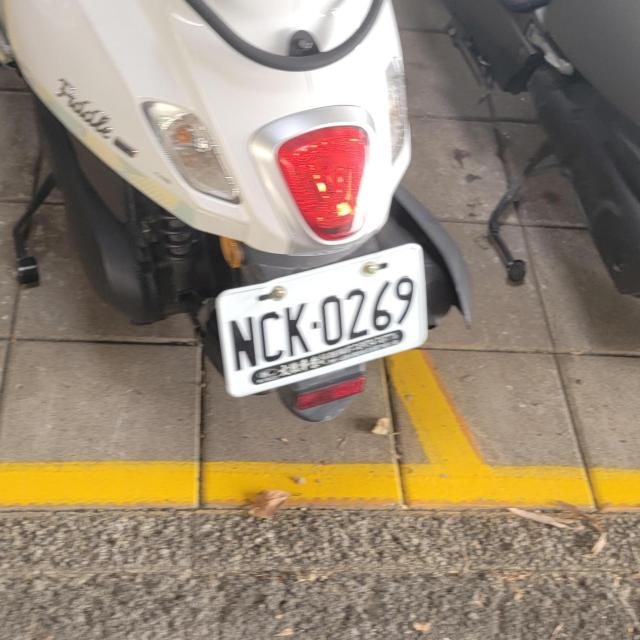W: (204, 240, 436, 397)
